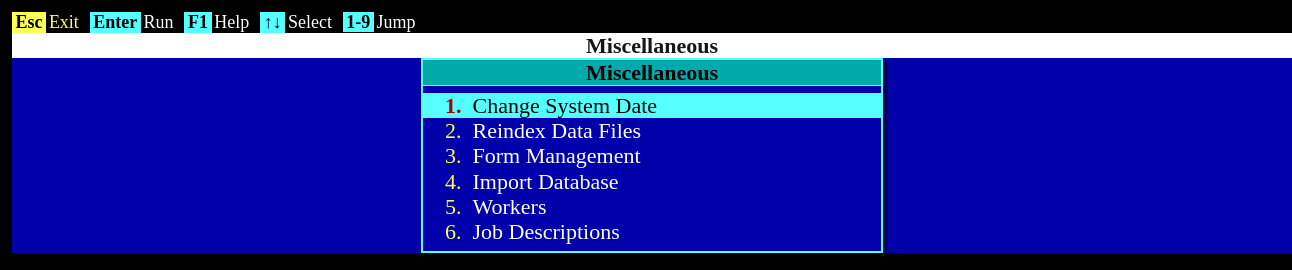
Test case: MiscScreen › lists Workers as option 5
The image size is (1292, 270).
Click the button "5.Workers": (509, 207) x1=423 y1=194 x2=881 y2=219
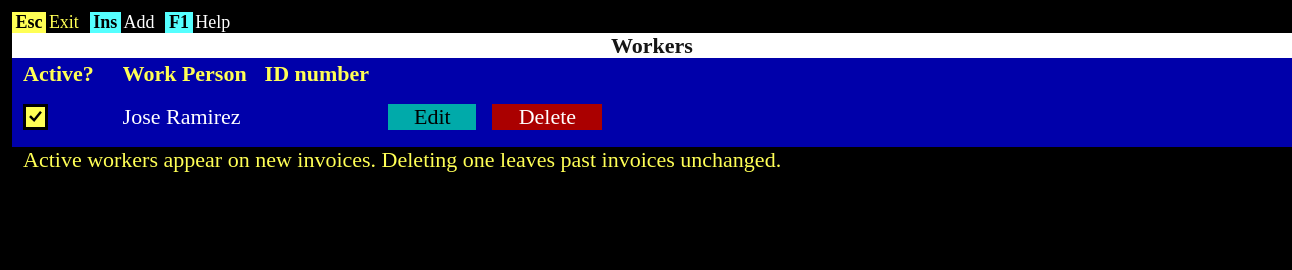
Result: the button "Ins Add" is shown at x1=90 y1=12 x2=165 y2=33
Result: the text named "Worker name 1" reads "Jose Ramirez" at x1=123 y1=104 x2=240 y2=129
